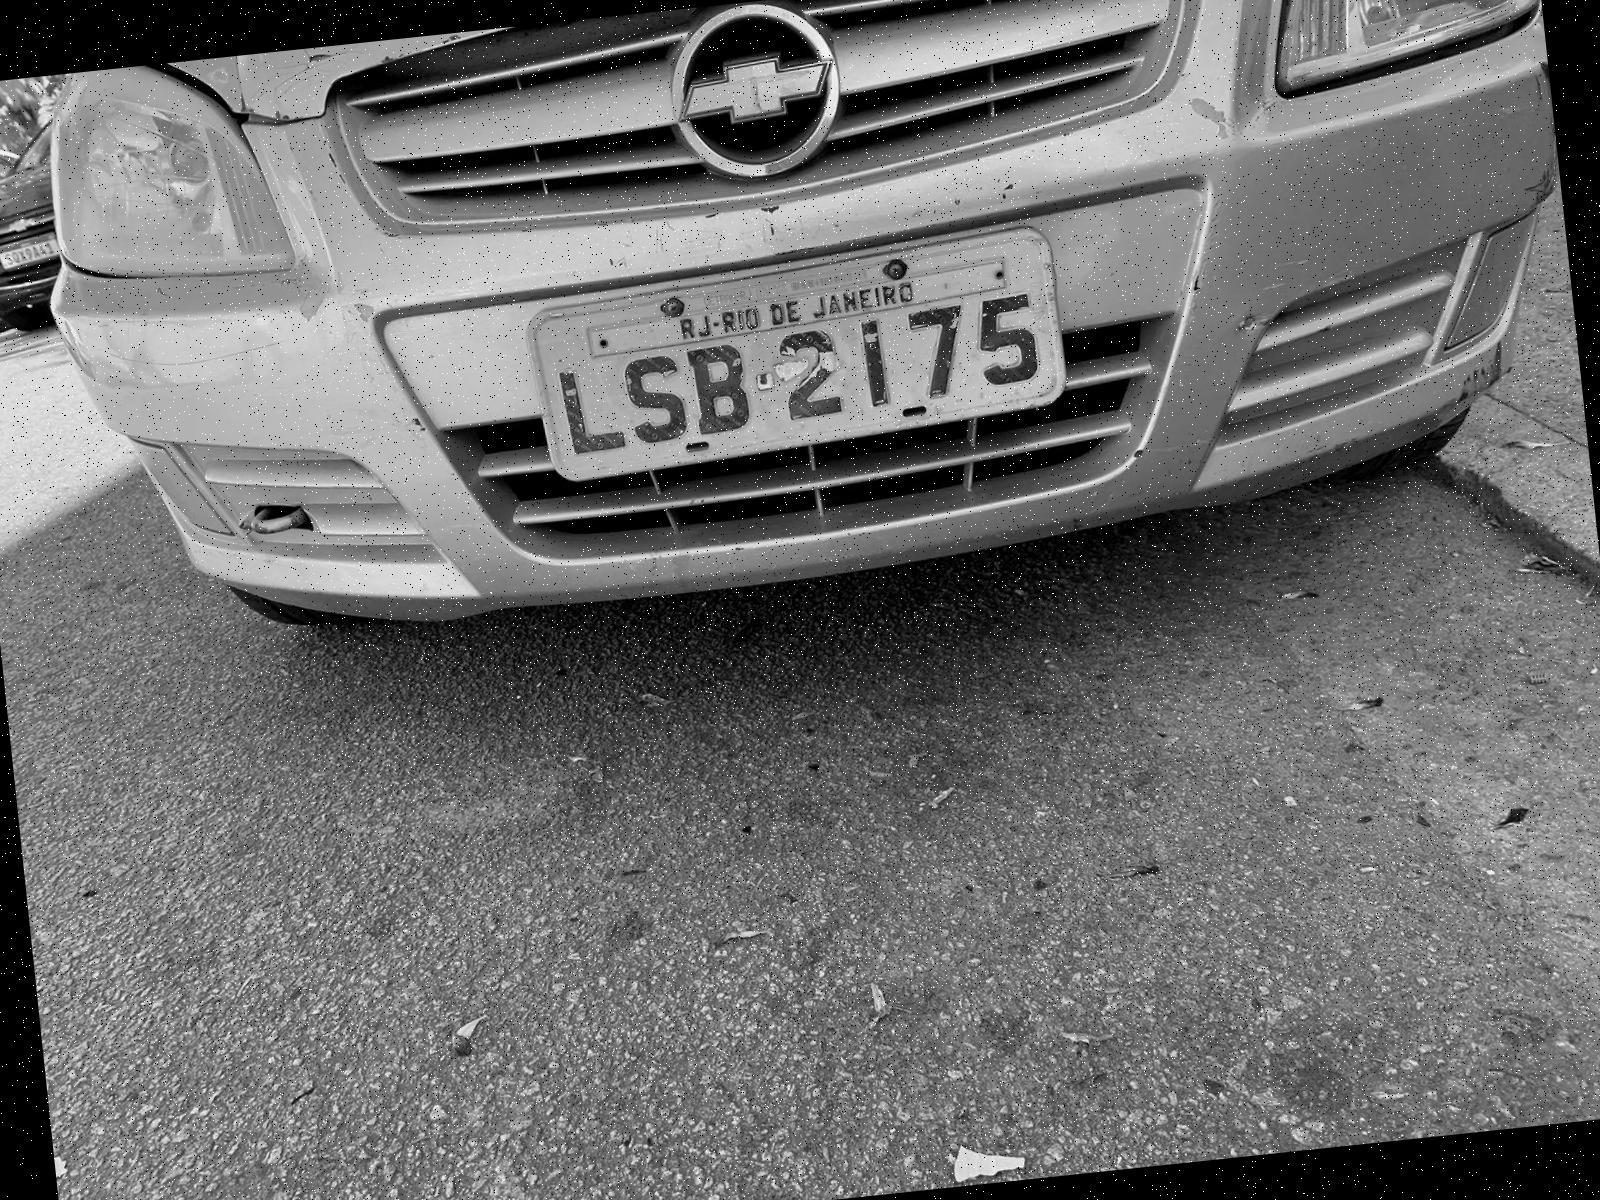placa_antiga: (533, 229, 1063, 474)
